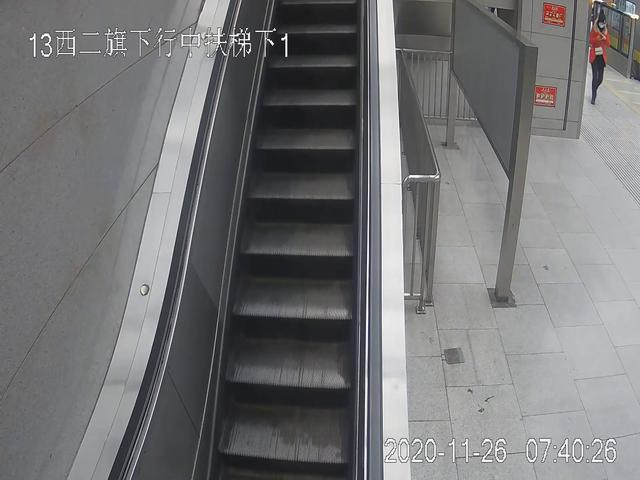person: (587, 10, 610, 105)
